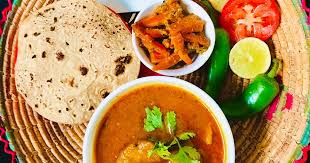curry: (101, 87, 222, 163), (140, 6, 209, 65)
roti: (15, 1, 131, 117)
